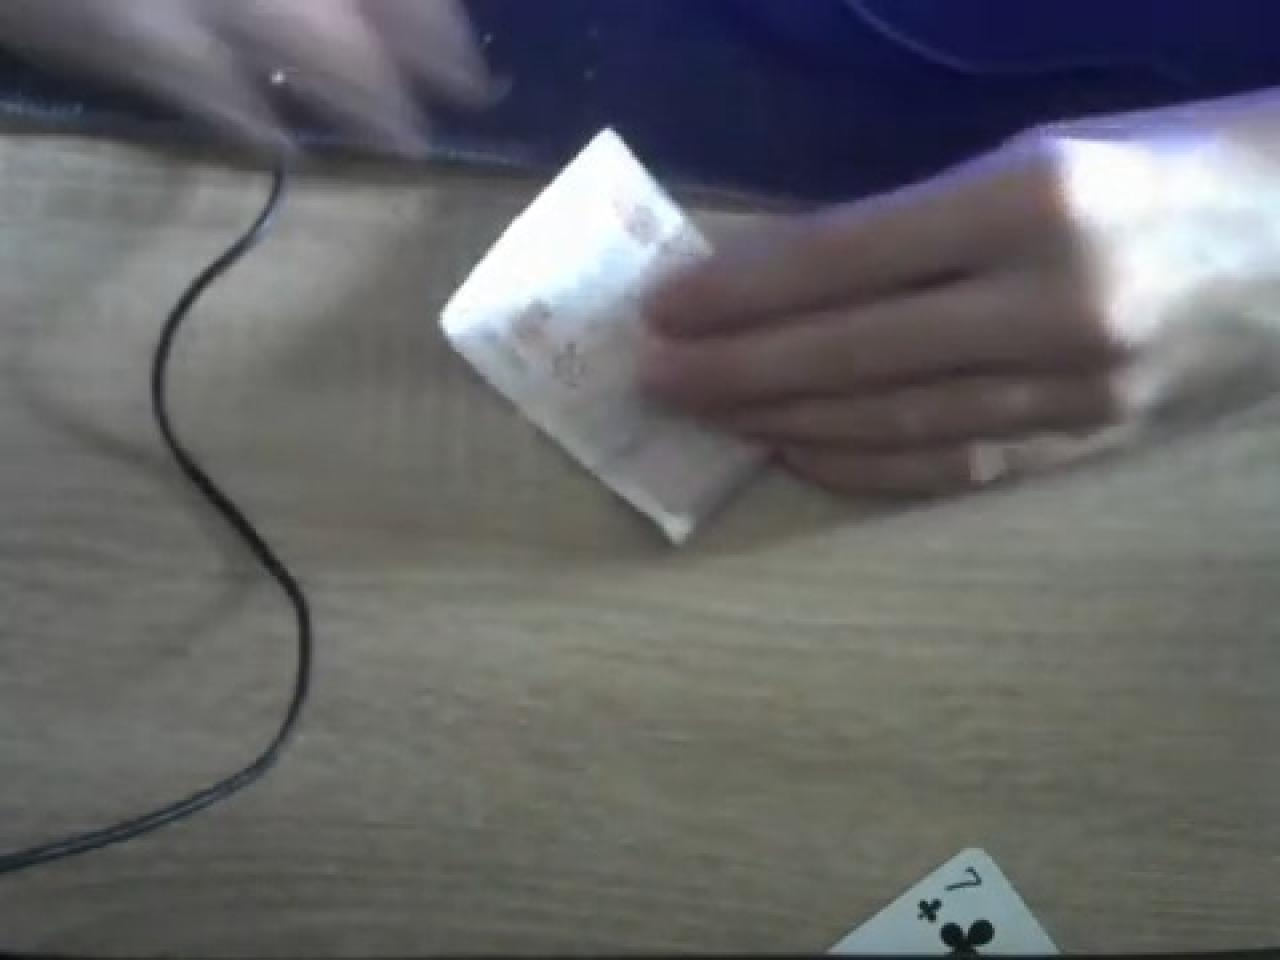5leva: (434, 131, 771, 550)
